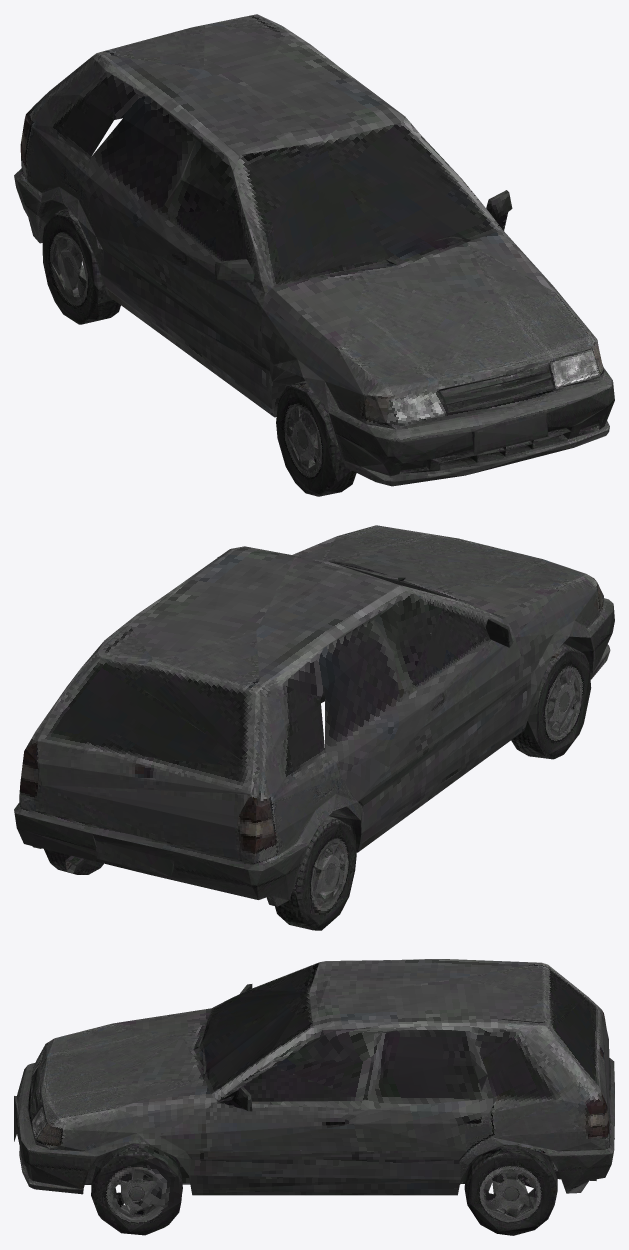
File: hatch_dark.glb
3 views of the same model, one above another, from view 1: azimuth 30°, elevation 25°; view 2: azimuth 150°, elevation 25°; view 3: azimuth 270°, elevation 25° (orthographic). The views are drawn at different scales.
Parts seen in each view (by area): view 1: car_hatch; view 2: car_hatch; view 3: car_hatch.
Boxes of the visible parts, bbox=[...] form: car_hatch: bbox=[14, 14, 614, 496]; car_hatch: bbox=[14, 525, 614, 930]; car_hatch: bbox=[14, 959, 614, 1235].
Size of the model in its own units: 1.83 by 1.48 by 4.05.
Materials: 1 (1 with a texture image).
